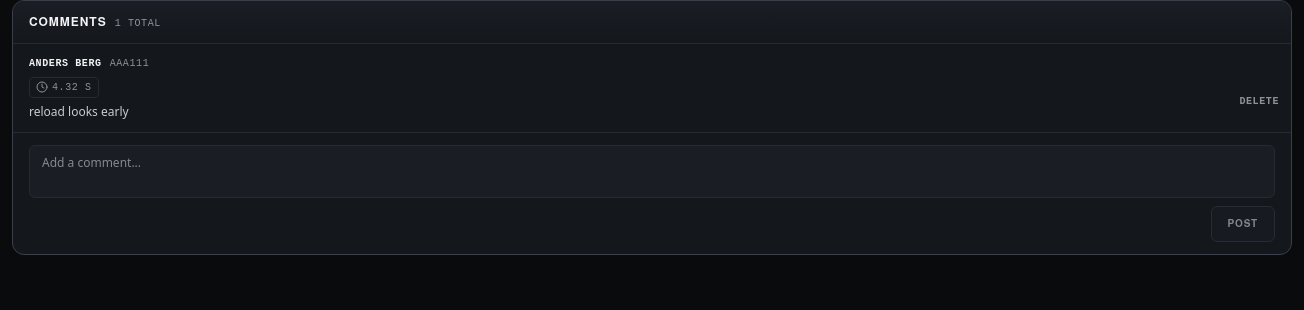
Test: CommentPanel author codes (#867) › degrades gracefully when author detail fails to load
Step 1. Click the button with aria-label "author detail" → (129, 64), box [110,56,149,71]
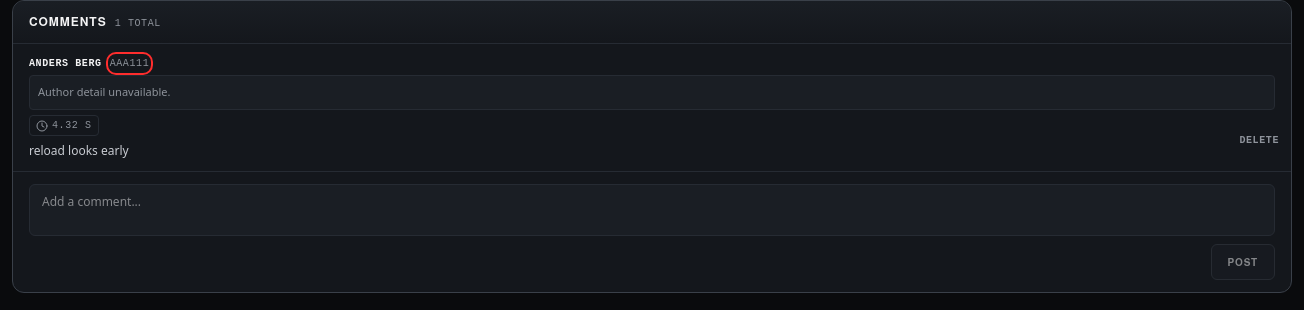
Now the text "Author detail unavailable." is shown, box [29,75,1275,110]
